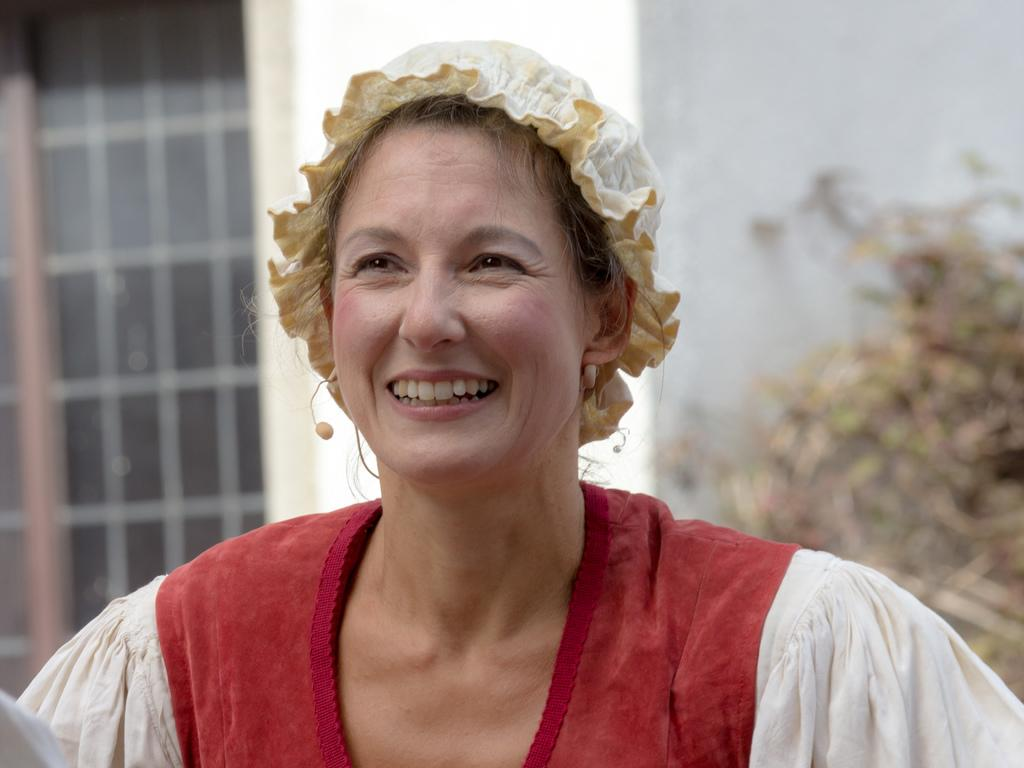Hat: (264, 39, 682, 452)
